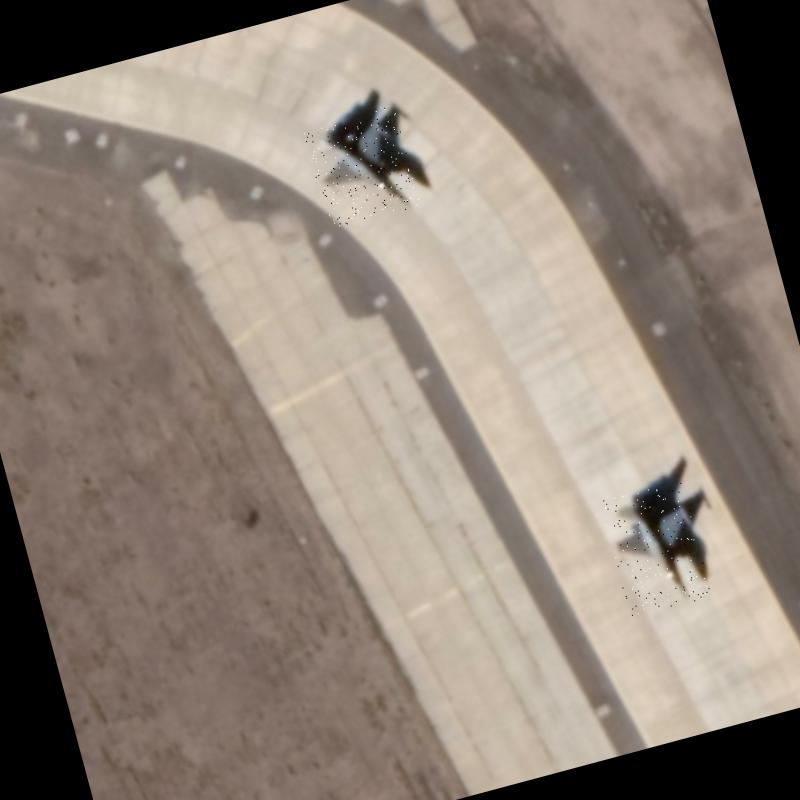A5: (599, 479, 713, 618), (303, 104, 420, 230)
